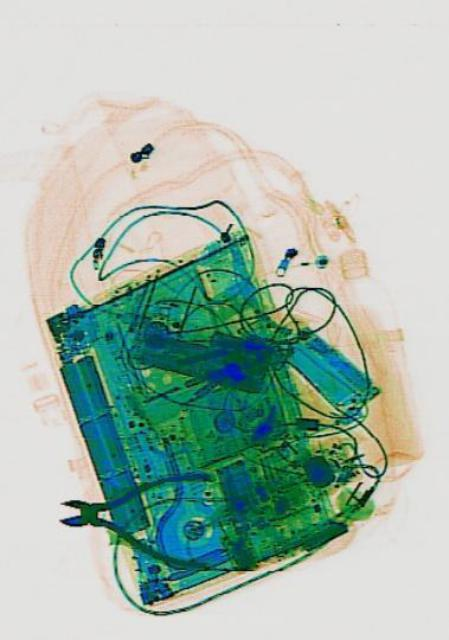Pliers: (56, 462, 212, 570)
